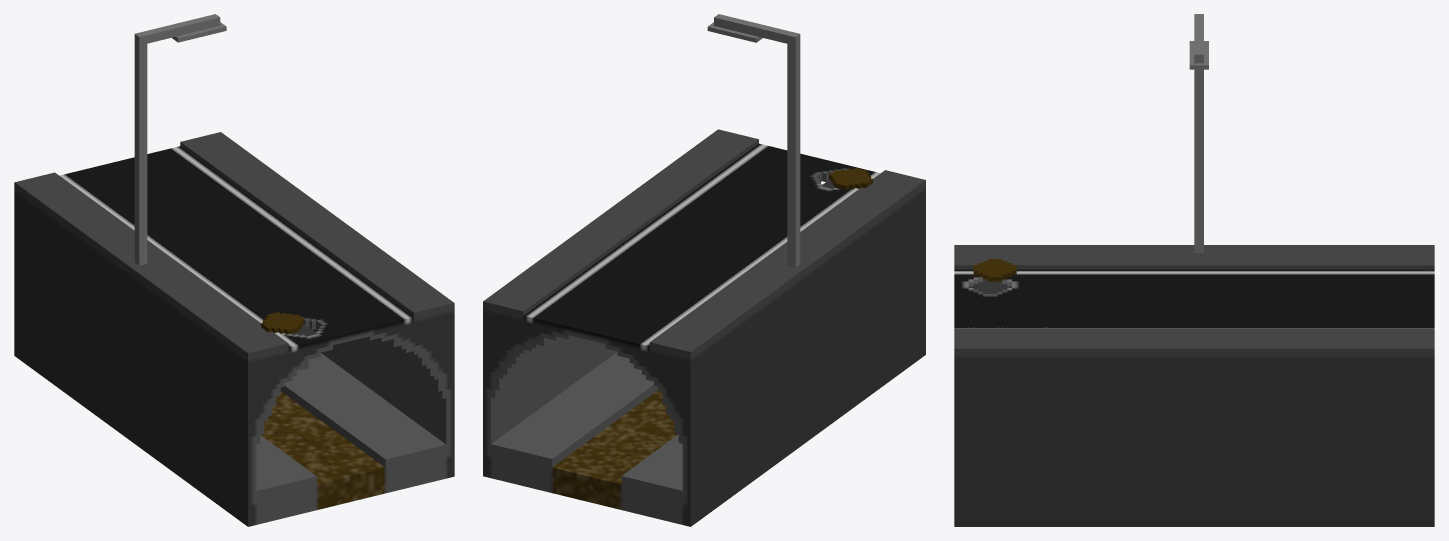
File: SewersLevelMenu.fbx
The picture shows the model from 3 angles, left to right: view 1: azimuth 30°, elevation 25°; view 2: azimuth 150°, elevation 25°; view 3: azimuth 270°, elevation 25°; orthographic projection. The views are drawn at different scales.
Visible parts, largest first — view 1: Matrix; view 2: Matrix; view 3: Matrix.
Part boxes in pixels (x1=…): Matrix: x1=14, y1=14, x2=454, y2=526; Matrix: x1=483, y1=14, x2=925, y2=526; Matrix: x1=954, y1=14, x2=1434, y2=526.
Bounding box in the file's own units: 51 × 95 × 100.
